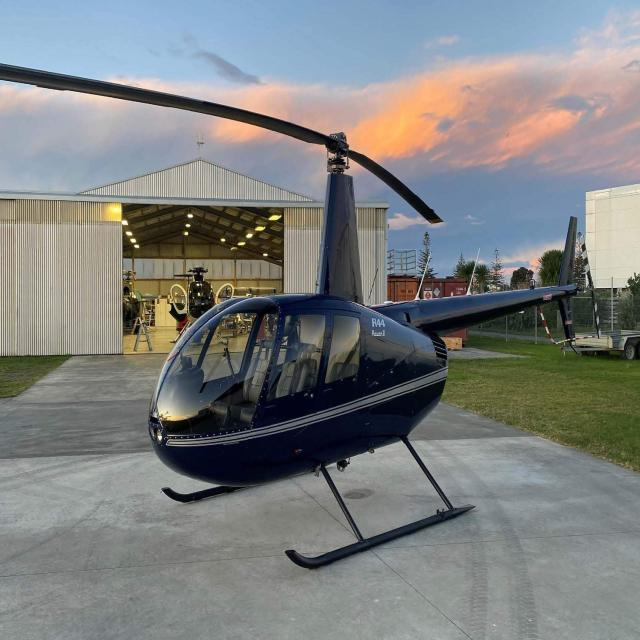CIV_HELO: (147, 130, 587, 575)
